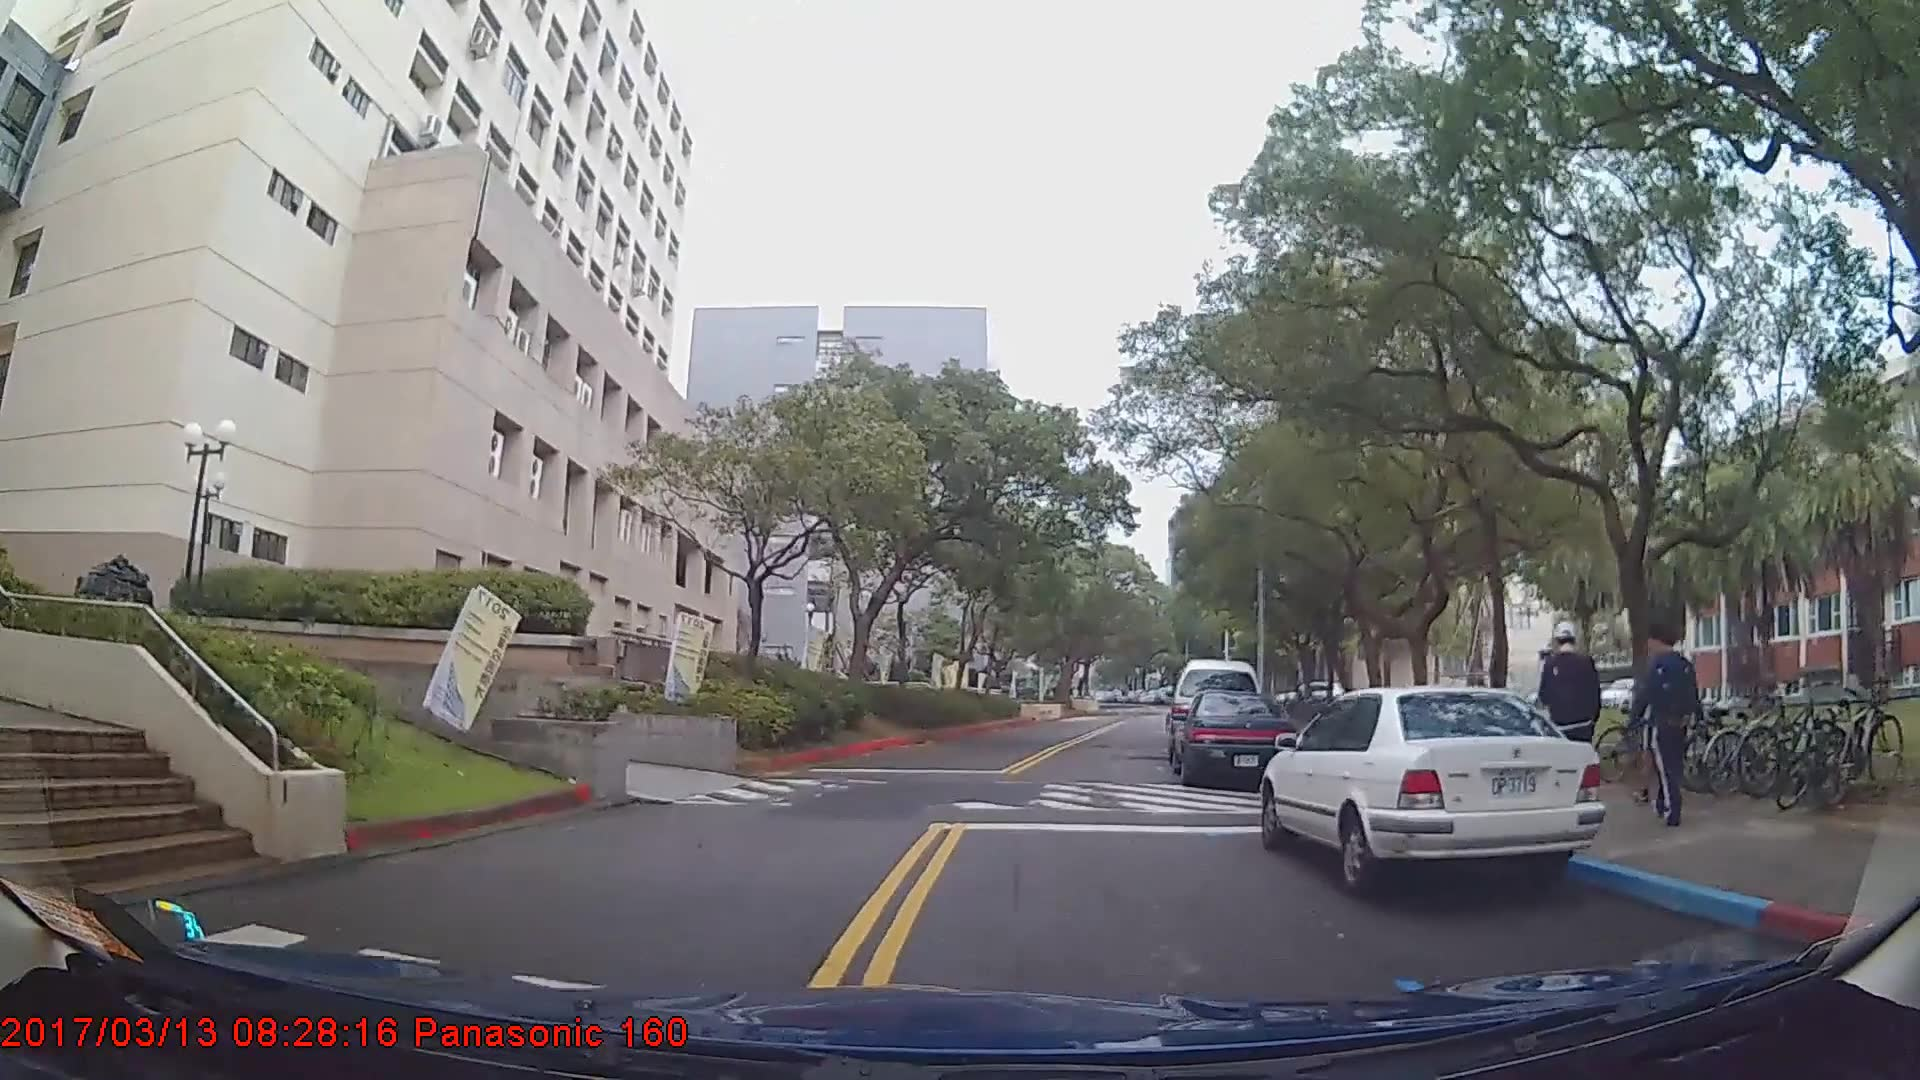pedestrian: (1640, 626, 1703, 828), (1542, 628, 1602, 819)
vehicle: (1258, 686, 1605, 903), (1171, 688, 1295, 785)
